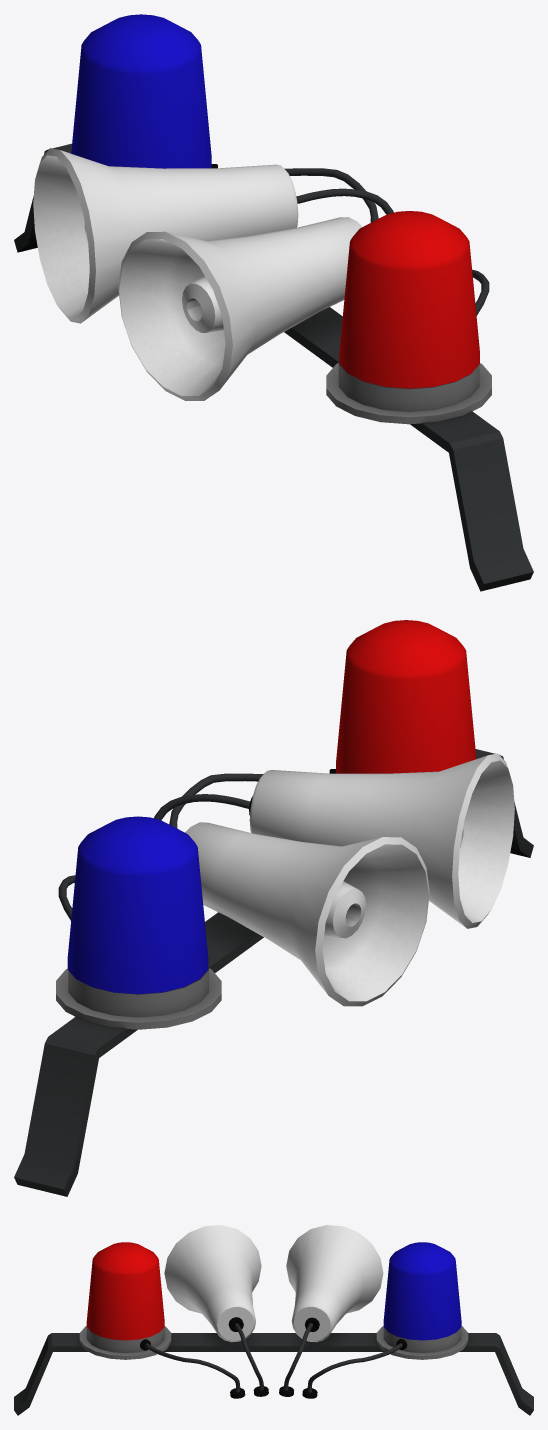
File: POLICE_LAMPS.FBX
The picture shows the model from 3 angles, top to bottom: view 1: azimuth 30°, elevation 25°; view 2: azimuth 150°, elevation 25°; view 3: azimuth 270°, elevation 25°; orthographic projection. The views are drawn at different scales.
Parts seen in each view (by area): view 1: roof_lamps, roof_lamp_glass; view 2: roof_lamps, roof_lamp_glass; view 3: roof_lamps, roof_lamp_glass.
Boxes of the visible parts, <box> form: roof_lamps: <box>14,143,533,591</box>; roof_lamp_glass: <box>71,14,479,388</box>; roof_lamps: <box>14,749,533,1196</box>; roof_lamp_glass: <box>67,620,476,994</box>; roof_lamps: <box>14,1225,533,1415</box>; roof_lamp_glass: <box>86,1242,461,1340</box>.
Bounding box in the file's own units: 0.5234 × 0.4607 × 1.34.
1 material, 1 textured.
